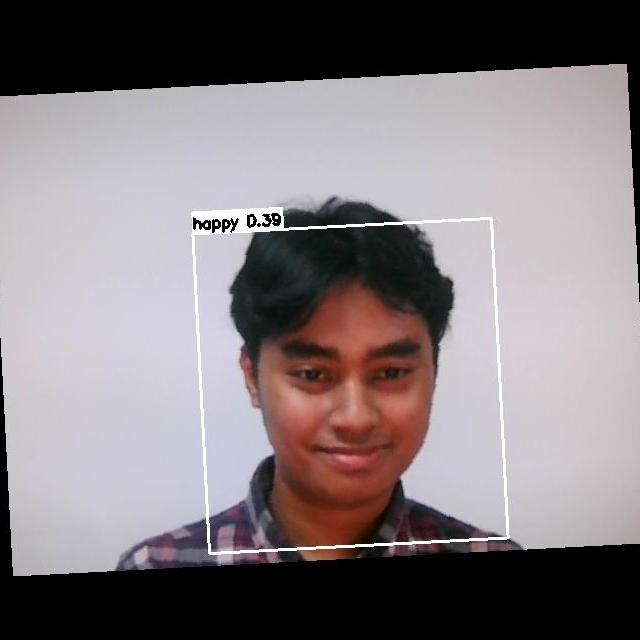Happy: (245, 296, 438, 482)
